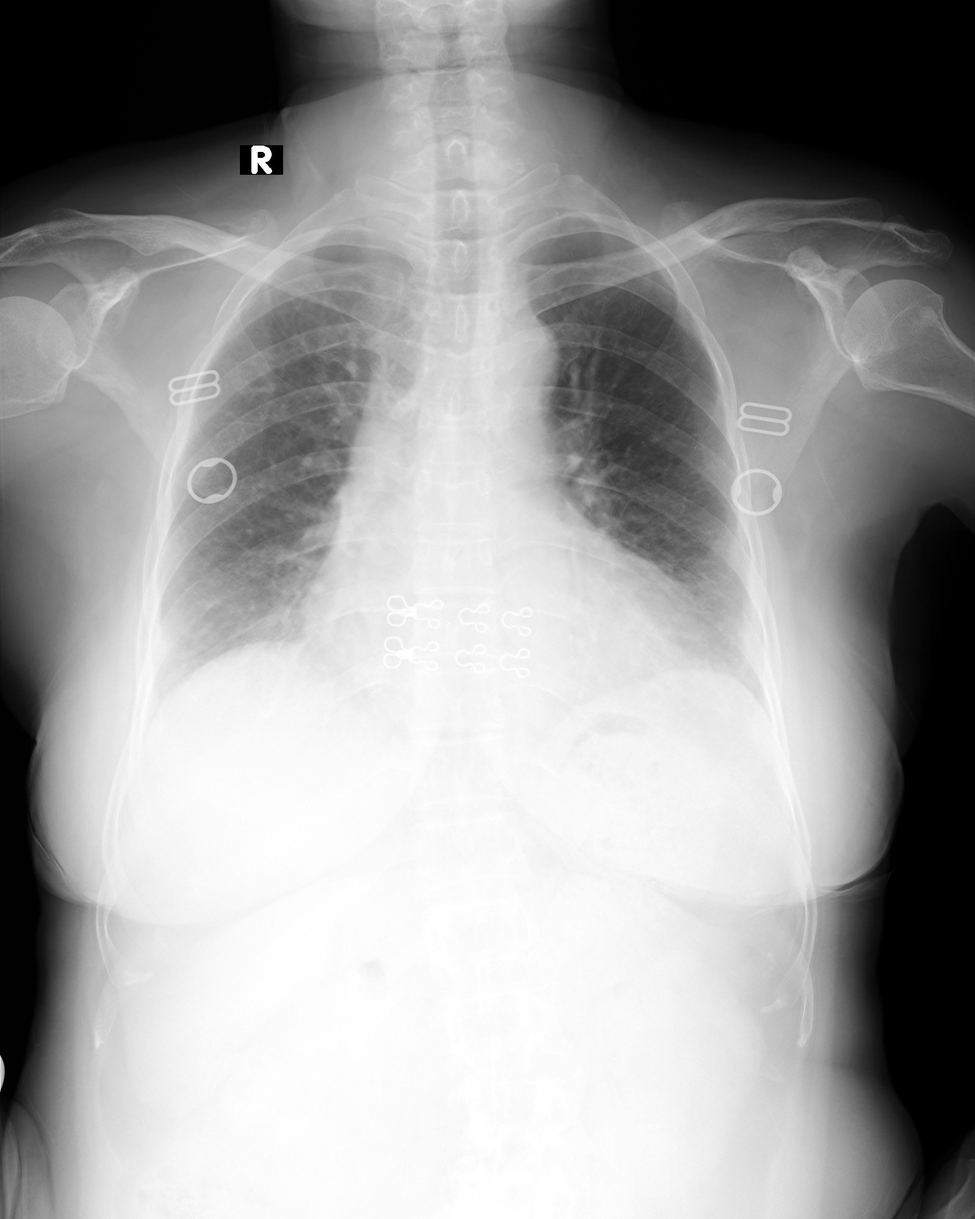Cardiomegaly: (295, 573, 711, 699)
